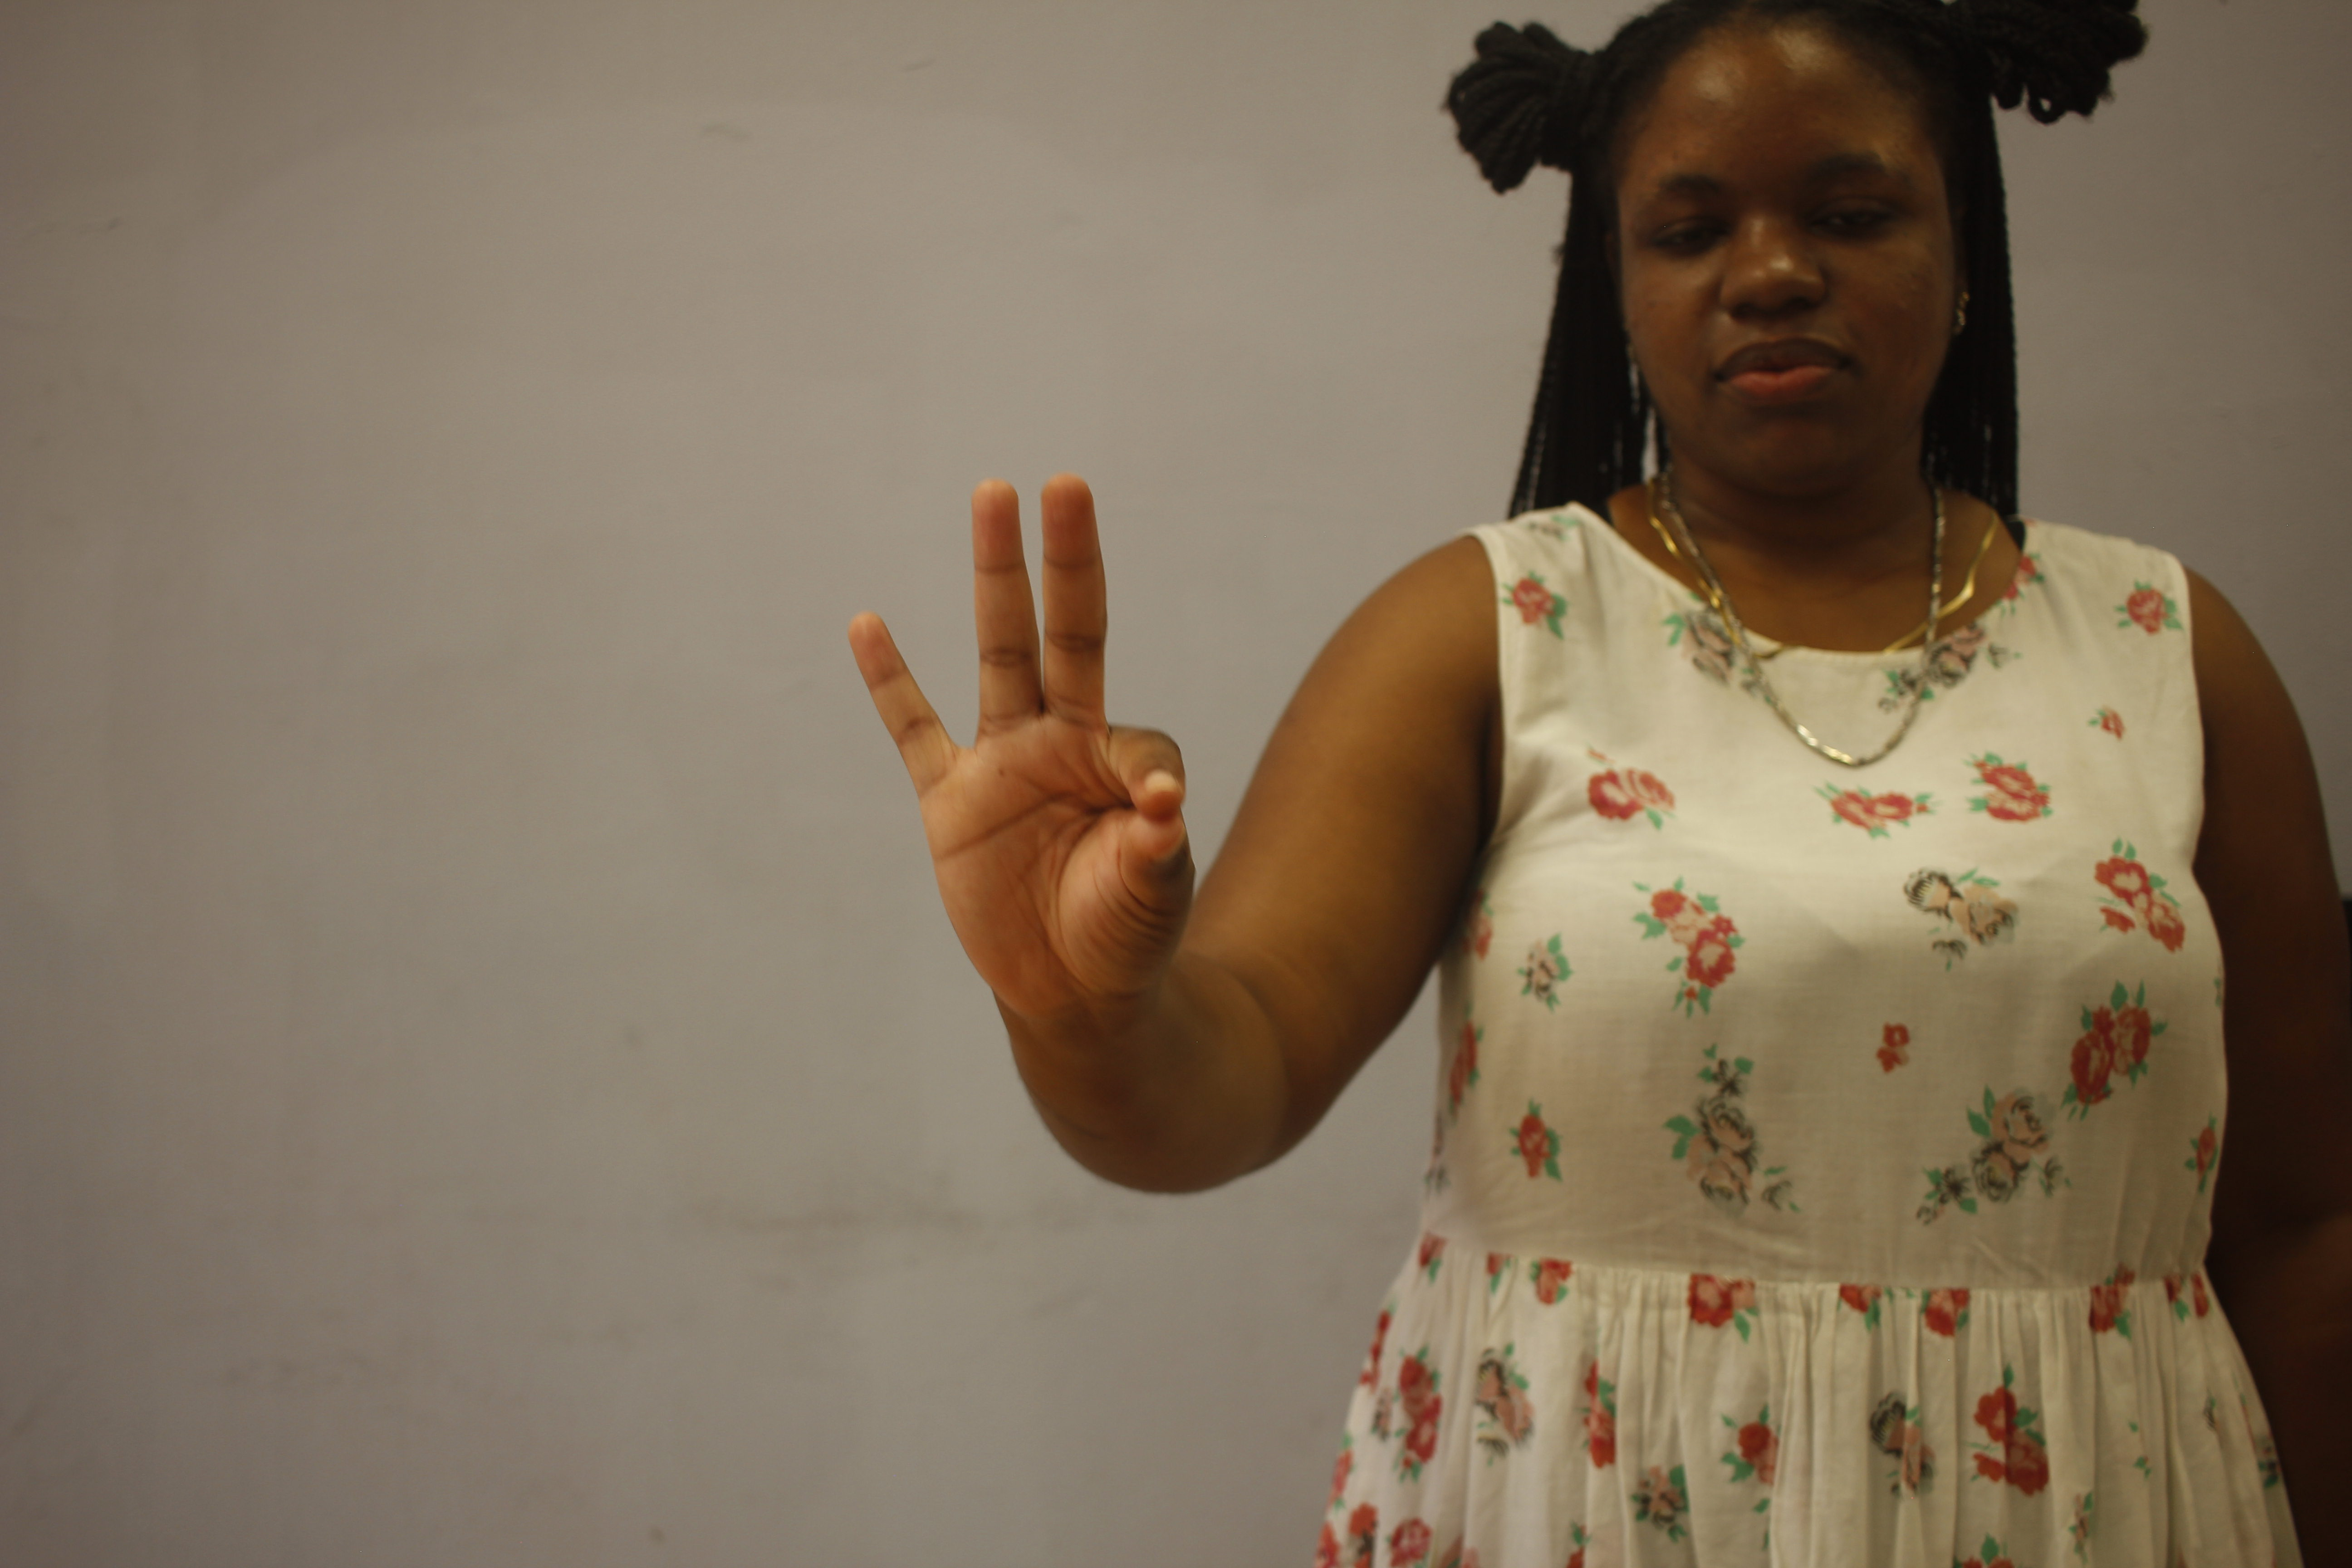F: (819, 453, 1215, 1020)
